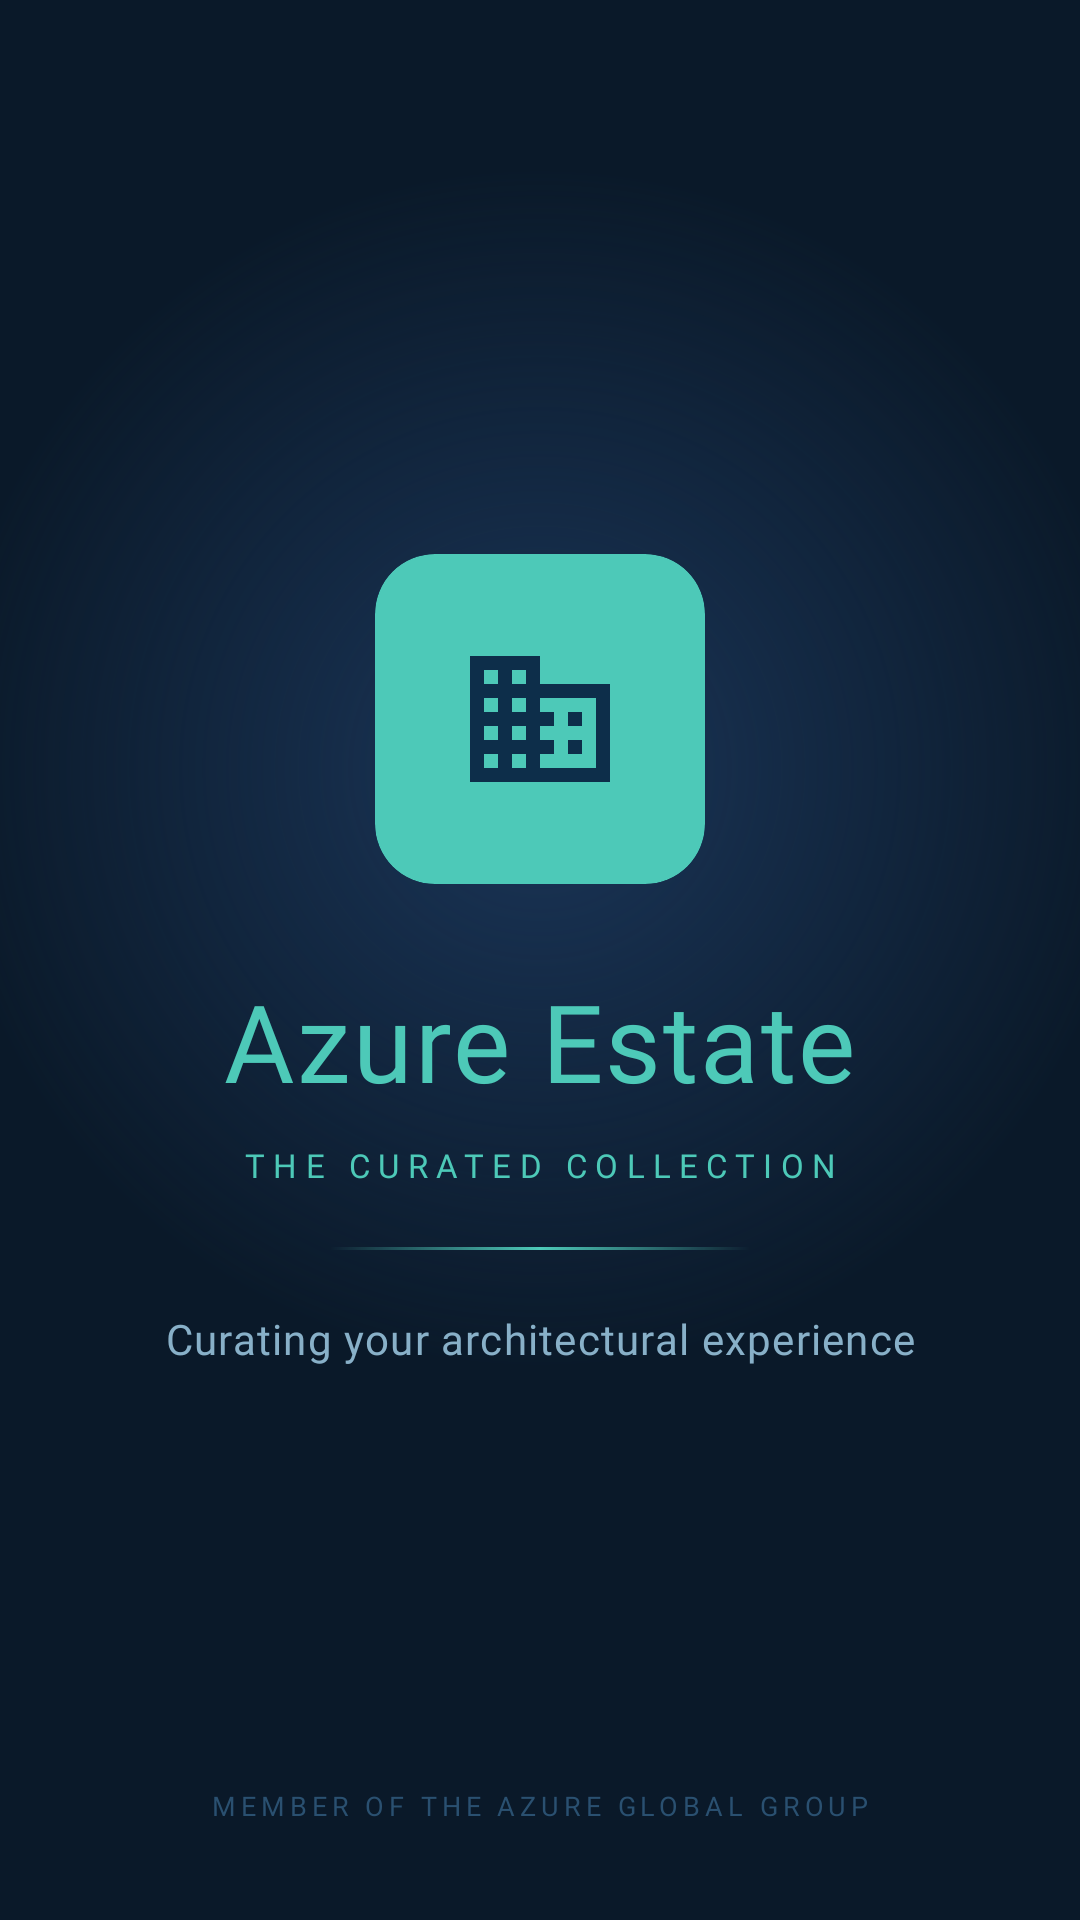

Where icons sit on this 1080 × 1920 app screen, as box=[x1, y1, x2, y2]:
building: box=[470, 656, 610, 782]
